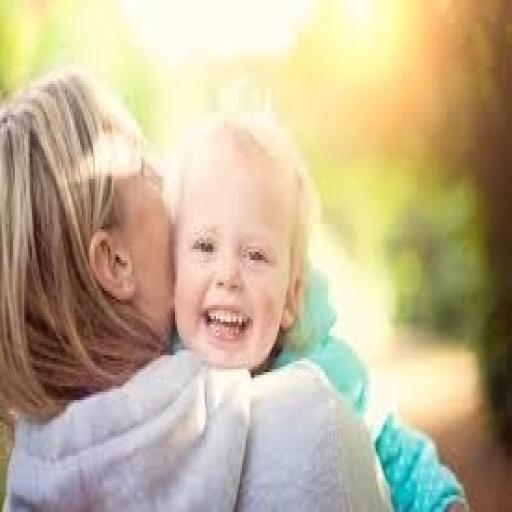hugging: (0, 64, 469, 510)
